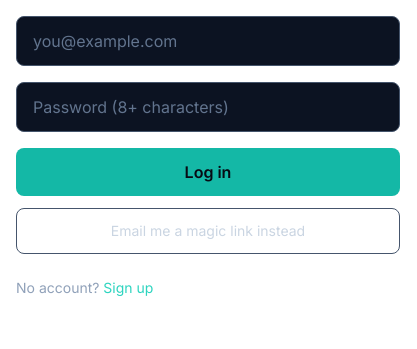
Test: AuthForm magic link › sends a magic link
Step 1. Type "a@b.com" into the field with placeholder "you@example.com" → (208, 41), box x1=16 y1=16 x2=400 y2=66
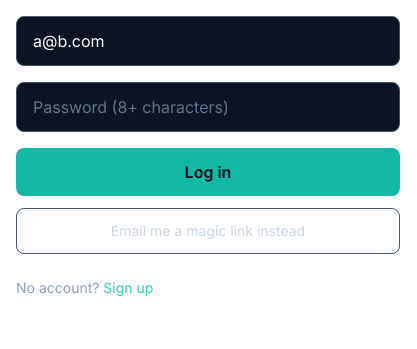
Step 2. Click the button "Email me a magic link instead" → (208, 231), box x1=16 y1=208 x2=400 y2=254
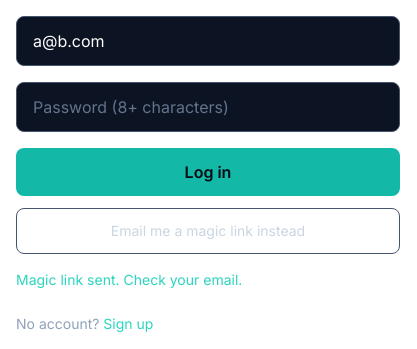
Check: the text "Magic link sent. Check your email." is shown, box x1=16 y1=271 x2=242 y2=288
